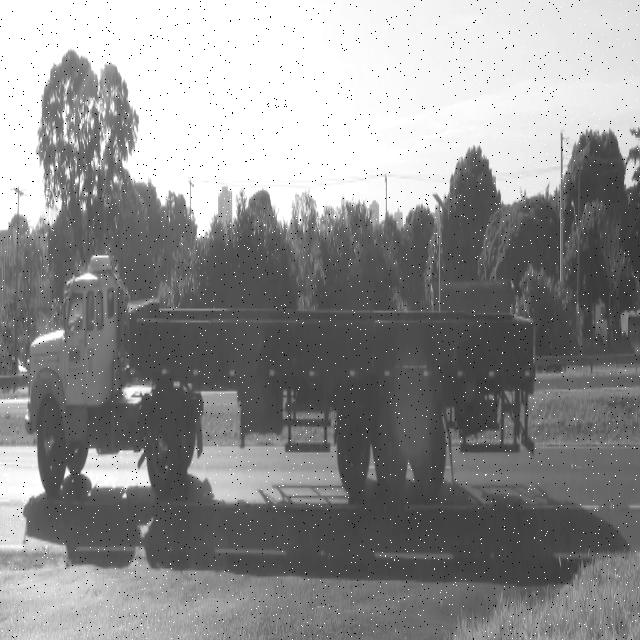-axle: (333, 402, 373, 495), (142, 397, 178, 492), (412, 401, 444, 491), (378, 401, 408, 492), (36, 398, 61, 485)
